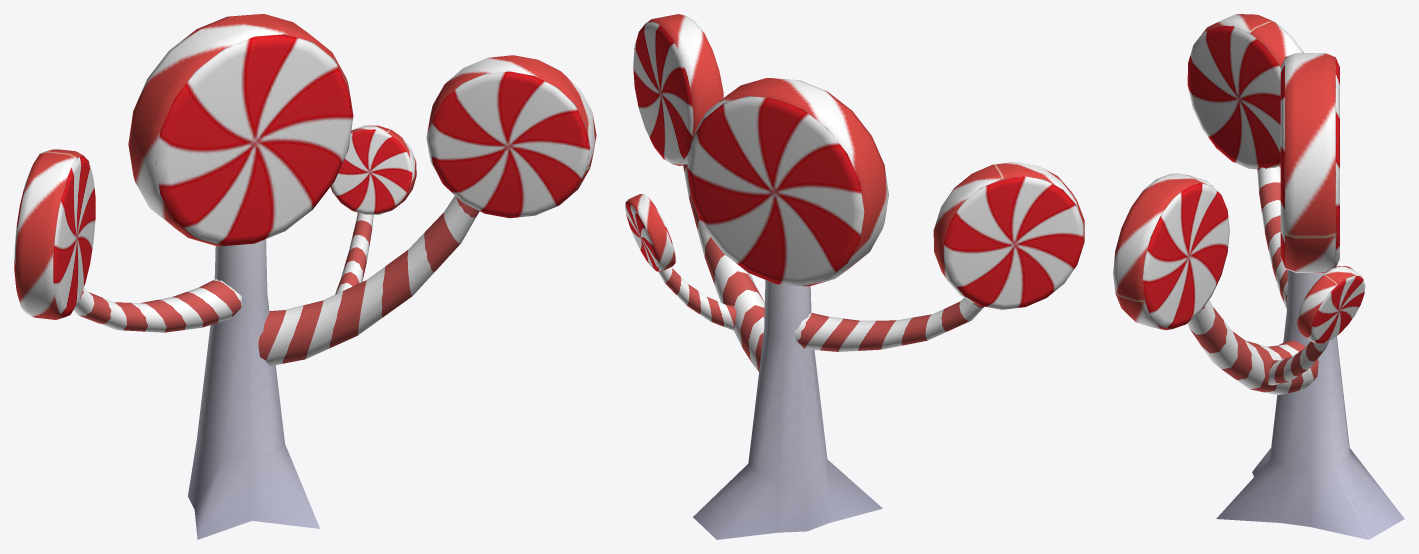
File: SM_CANE_TREE_01.fbx
The picture shows the model from 3 angles, left to right: view 1: azimuth 30°, elevation 25°; view 2: azimuth 150°, elevation 25°; view 3: azimuth 270°, elevation 25°; orthographic projection. The views are drawn at different scales.
Parts seen in each view (by area): view 1: CANE_TREE_01; view 2: CANE_TREE_01; view 3: CANE_TREE_01.
Part boxes in pixels (bbox=[...]): CANE_TREE_01: bbox=[14, 14, 596, 539]; CANE_TREE_01: bbox=[625, 14, 1084, 539]; CANE_TREE_01: bbox=[1113, 14, 1404, 539].
Size of the model in its own units: 248 by 209 by 125.
Materials: 1 (1 with a texture image).
